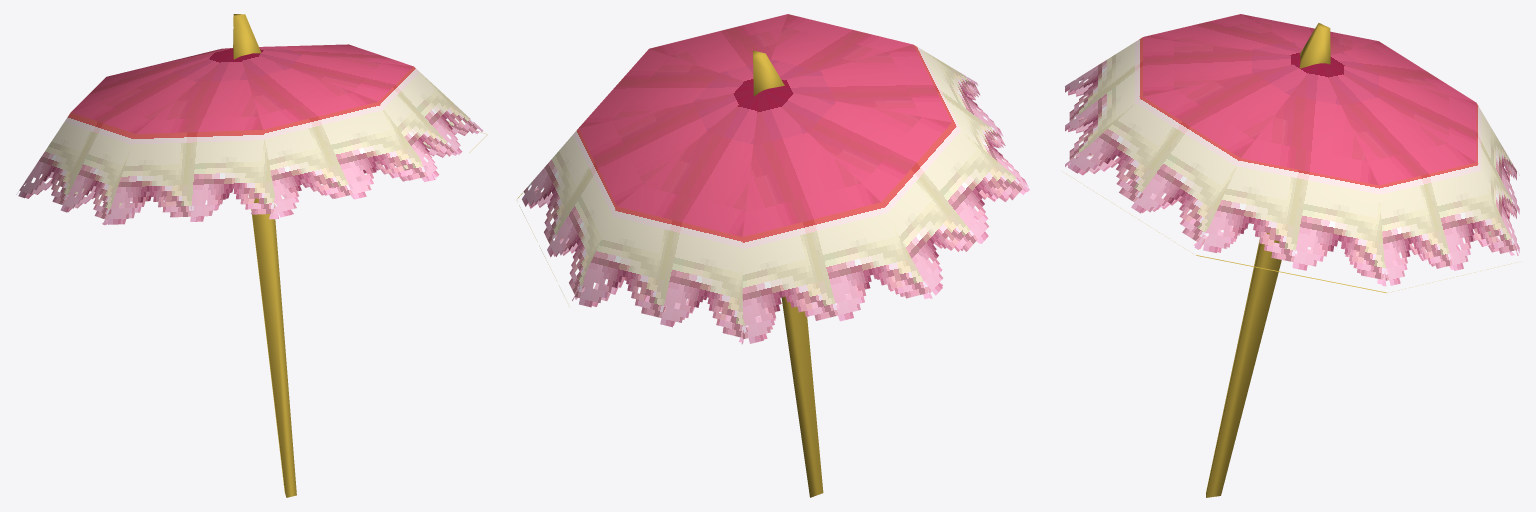
The model's file is wing_umb_lod.dae.
3 views of the same model, side by side, from view 1: azimuth 30°, elevation 25°; view 2: azimuth 150°, elevation 25°; view 3: azimuth 270°, elevation 25° (orthographic). The views are drawn at different scales.
Parts seen in each view (by area): view 1: _0_0_node; view 2: _0_0_node; view 3: _0_0_node.
Boxes of the visible parts, <box> form: _0_0_node: <box>16,14,487,497</box>; _0_0_node: <box>517,14,1029,497</box>; _0_0_node: <box>1065,14,1521,497</box>.
Bounding box in the file's own units: 17.9 × 19.73 × 17.49.
Materials: 1 (1 with a texture image).
